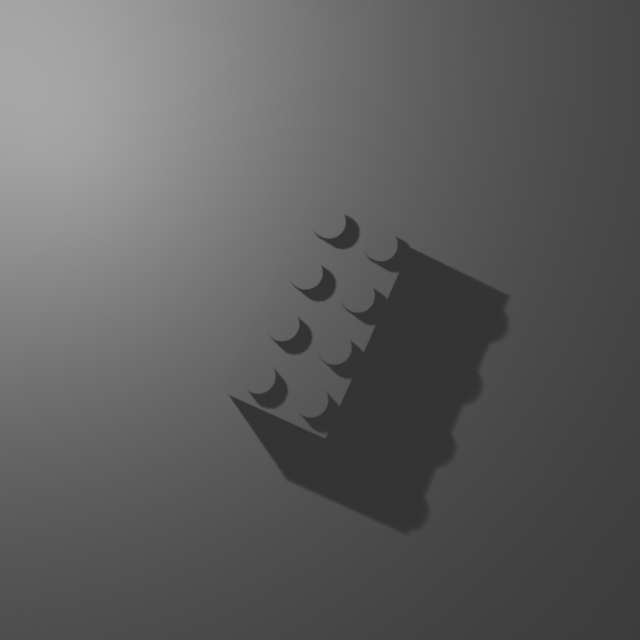lego_2x4: (220, 186, 418, 439)
